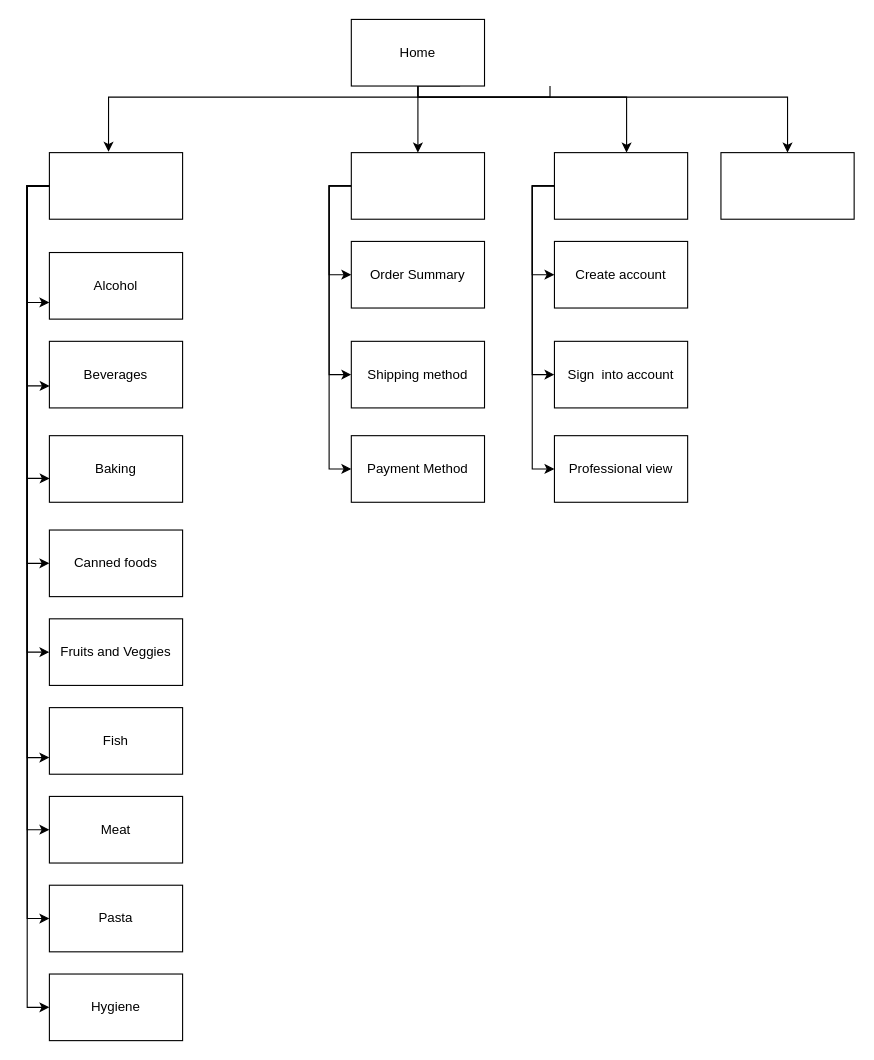
Image size: 874x1060. Some labels were removed from this diagram. Each missing label, with the box of its shape:
Cart: (350, 152, 485, 219)
Products: (48, 152, 183, 219)
Profile: (553, 152, 688, 219)
Search: (720, 152, 854, 219)
